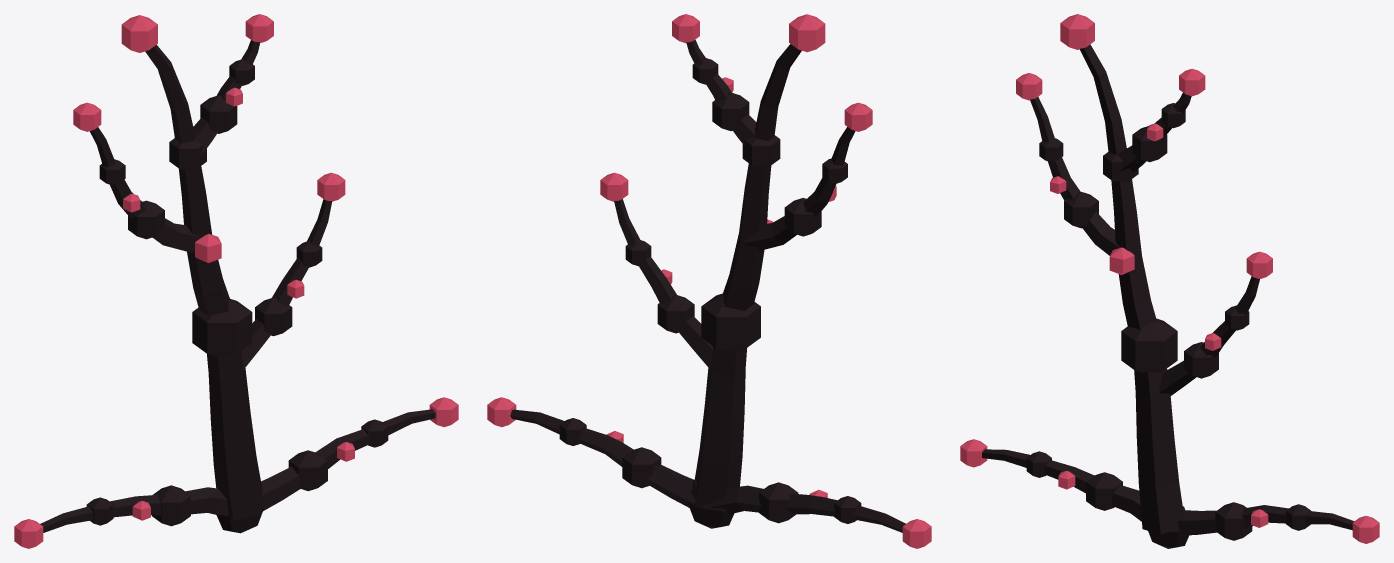
File: Branch_Wall_A.fbx
3 renders of one model, left to right at view 1: azimuth 30°, elevation 25°; view 2: azimuth 150°, elevation 25°; view 3: azimuth 330°, elevation 25°, orthographic. The views are drawn at different scales.
Visible parts, largest first — view 1: Branch_Wall_A; view 2: Branch_Wall_A; view 3: Branch_Wall_A.
Boxes of the visible parts, left/top/right/bottom form: Branch_Wall_A: left=14, top=14, right=458, bottom=548; Branch_Wall_A: left=487, top=14, right=931, bottom=548; Branch_Wall_A: left=960, top=14, right=1379, bottom=548.
Bounding box in the file's own units: 1.74 × 2.06 × 0.2064.
